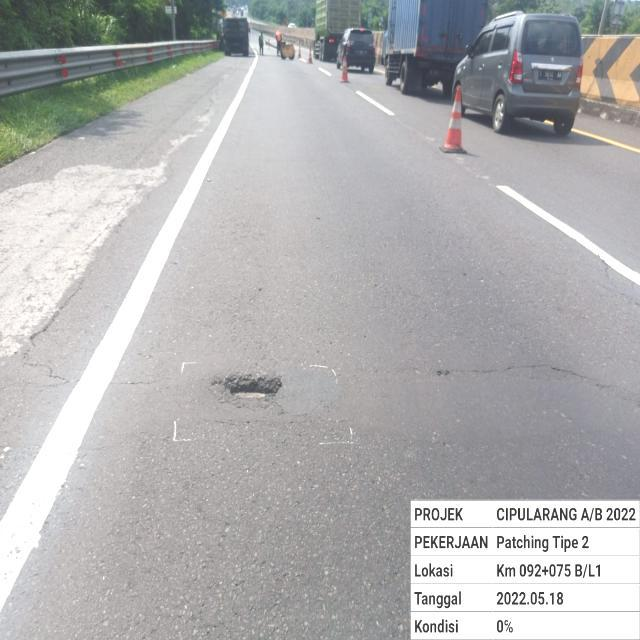Buraco: (205, 373, 286, 406)
